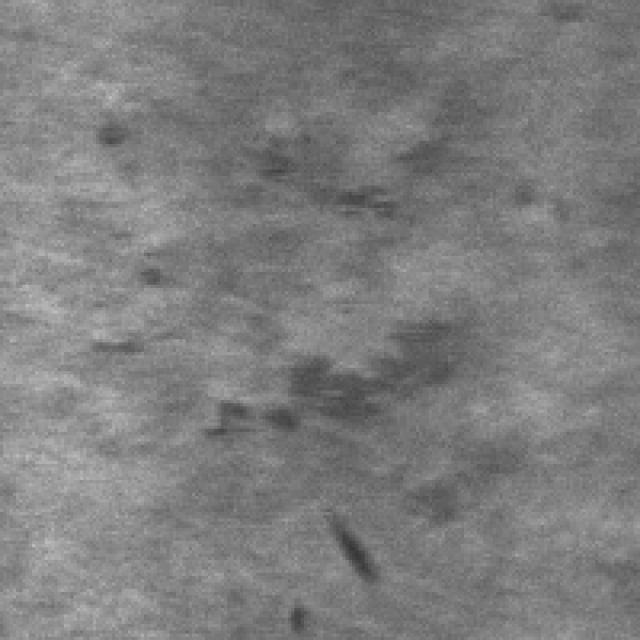rolled-in_scale: (182, 263, 470, 442), (253, 122, 454, 224)
